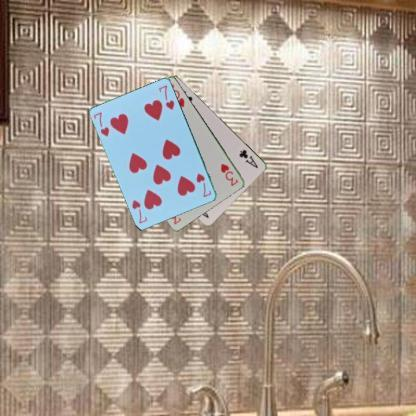3h: (219, 161, 240, 187)
7h: (92, 110, 110, 138), (194, 171, 212, 198)
Ac: (236, 146, 260, 170)
